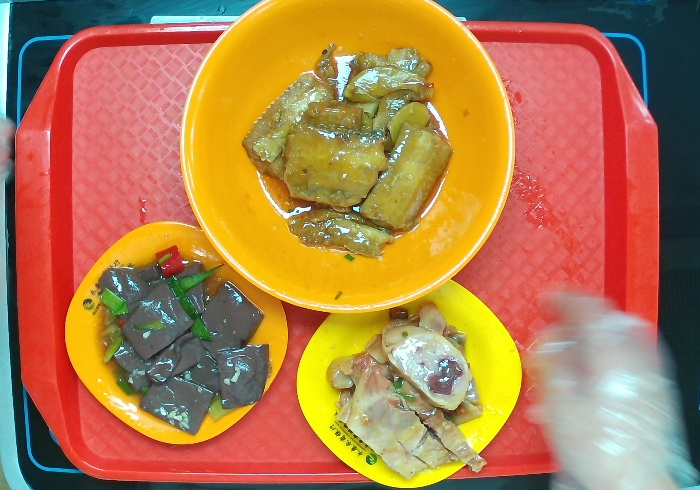YKMZ-Huang_Se_Fang_Die: (295, 277, 524, 490)
YKMZ-Ju_Se_Fang_Die: (62, 218, 289, 452)
YKMZ-Ju_Se_Tang_Wan: (178, 1, 517, 317)
